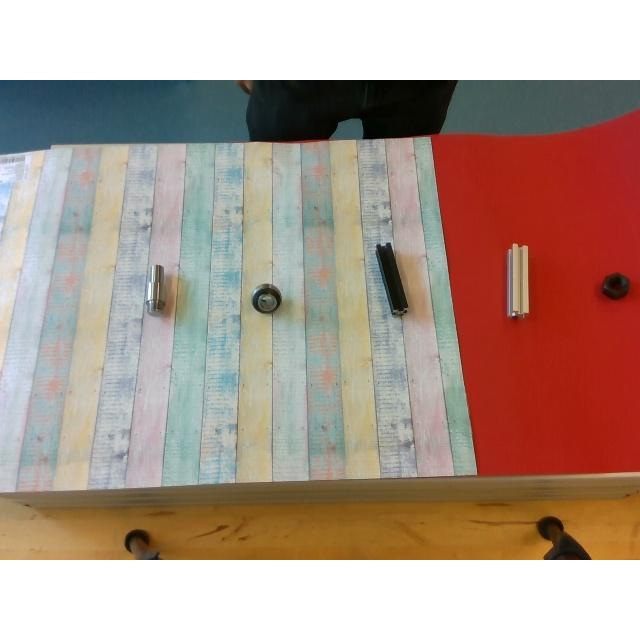Axis2: (144, 264, 164, 310)
Bearing2: (250, 283, 282, 313)
F20_20_B: (375, 245, 407, 313)
F20_20_G: (505, 244, 529, 316)
M20: (601, 272, 629, 298)
